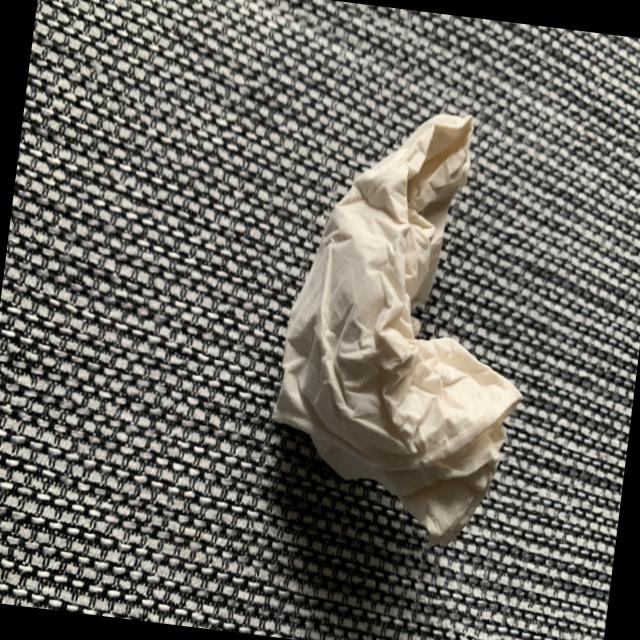organic waste: (254, 83, 557, 566)
